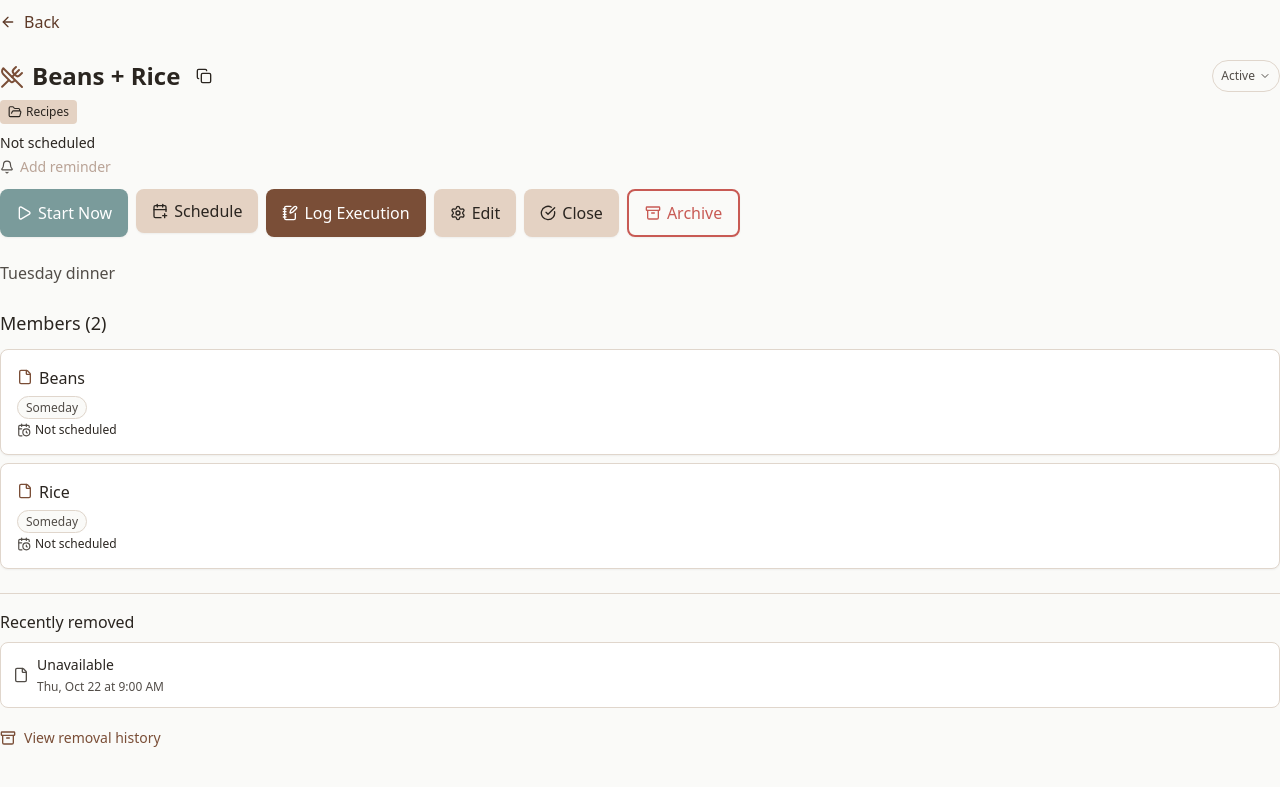
it: a menu's Log Execution lists its recipes and logs the ticked ones; hidden while cooking
The width and height of the screenshot is (1280, 787).
Click the button "Log Execution" at coordinates (346, 213), box [266,189,426,237]
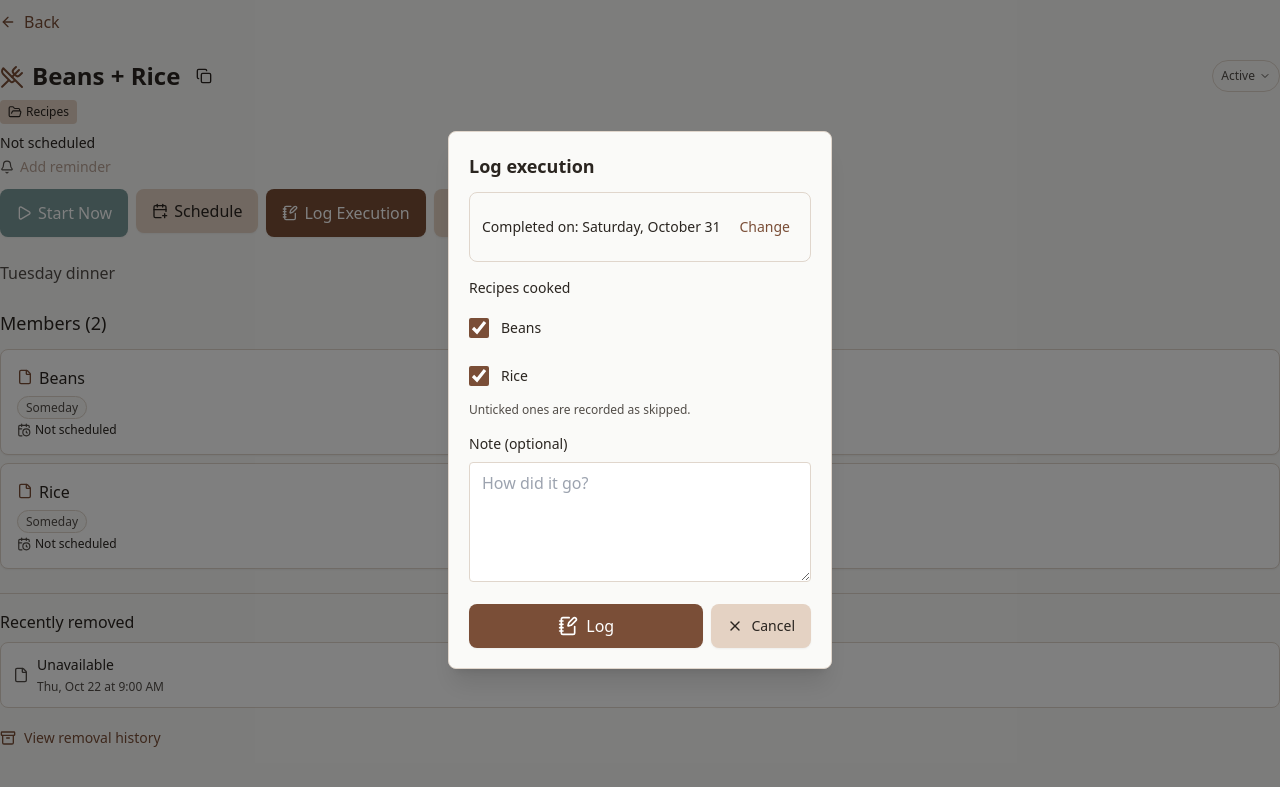
Click the checkbox labelled "Rice" at coordinates (479, 376), box [469,366,489,386]
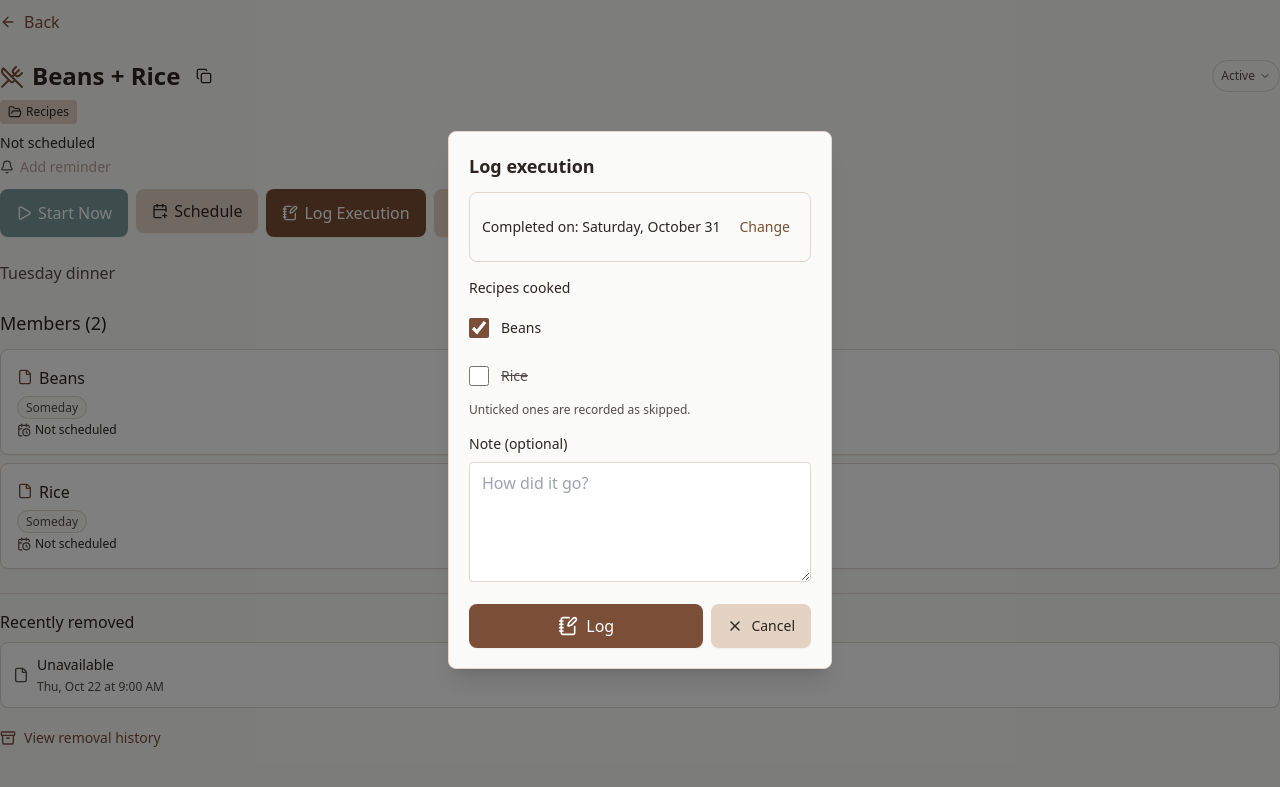
Click the button "Log" at coordinates (586, 626), box [469,604,703,648]
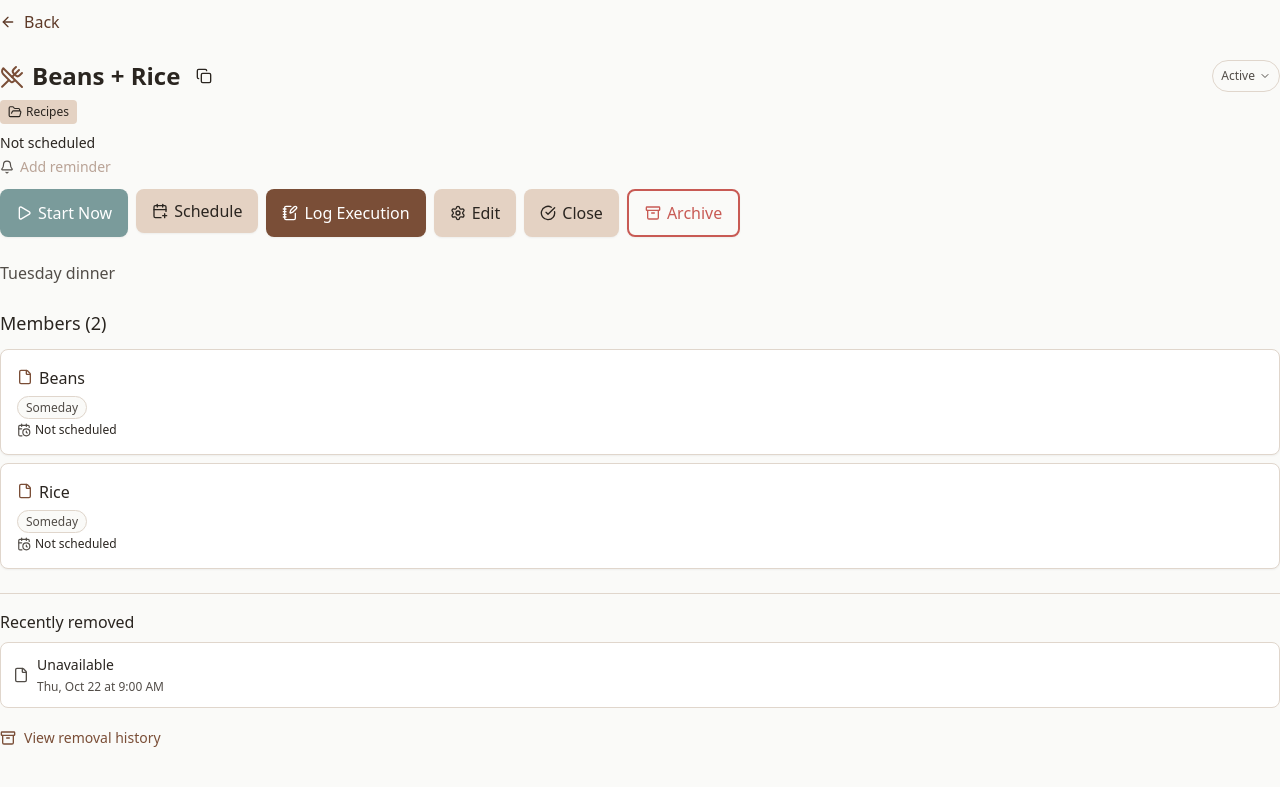
Check: the dialog is gone
